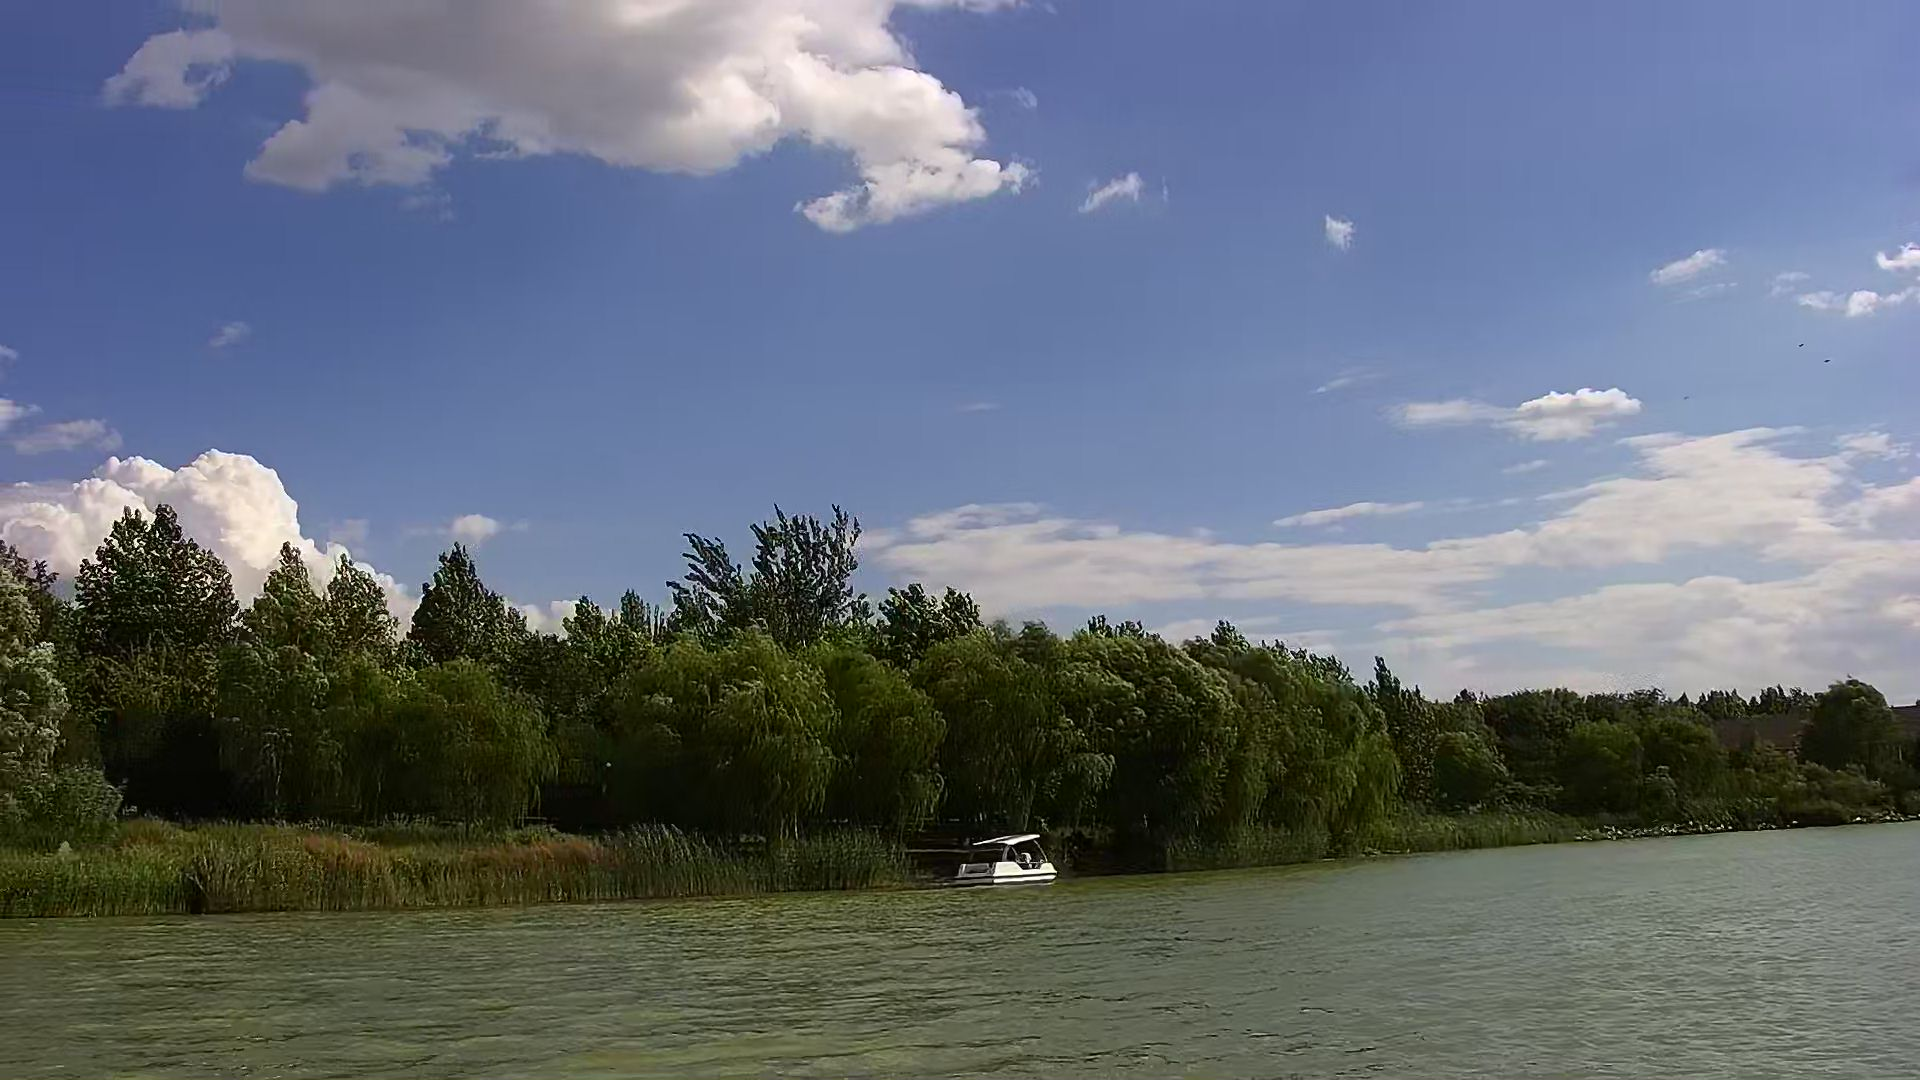boat: (956, 829, 1047, 884)
